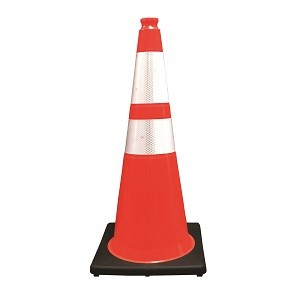traffic cone: (90, 17, 208, 280)
